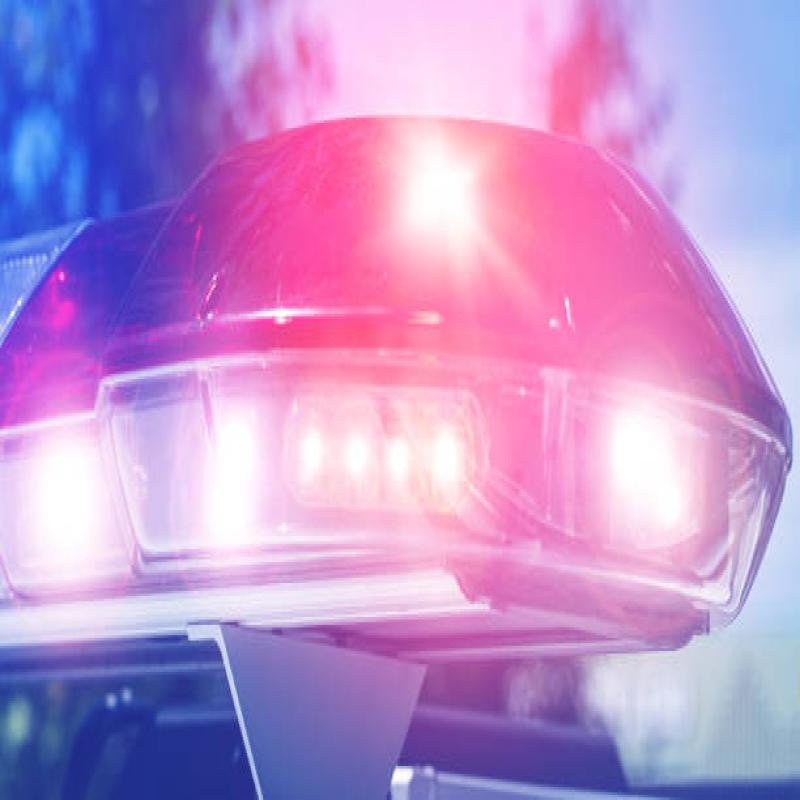AmbulanceSiren: (0, 92, 768, 708)
